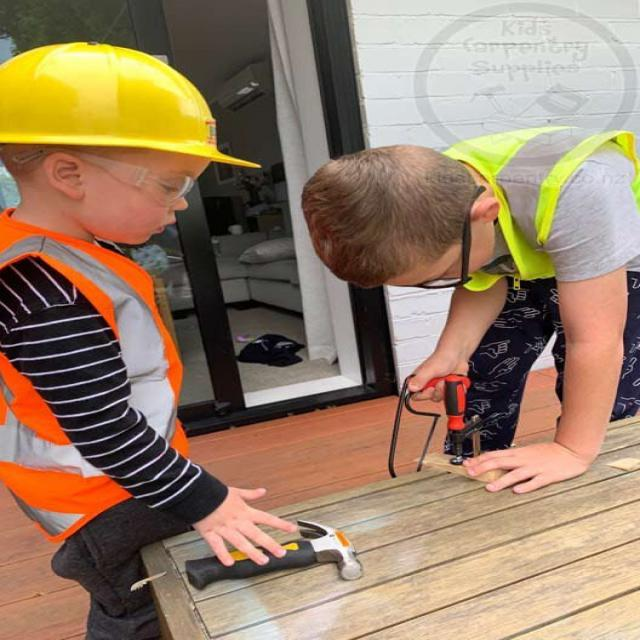hammer: (172, 514, 376, 595)
